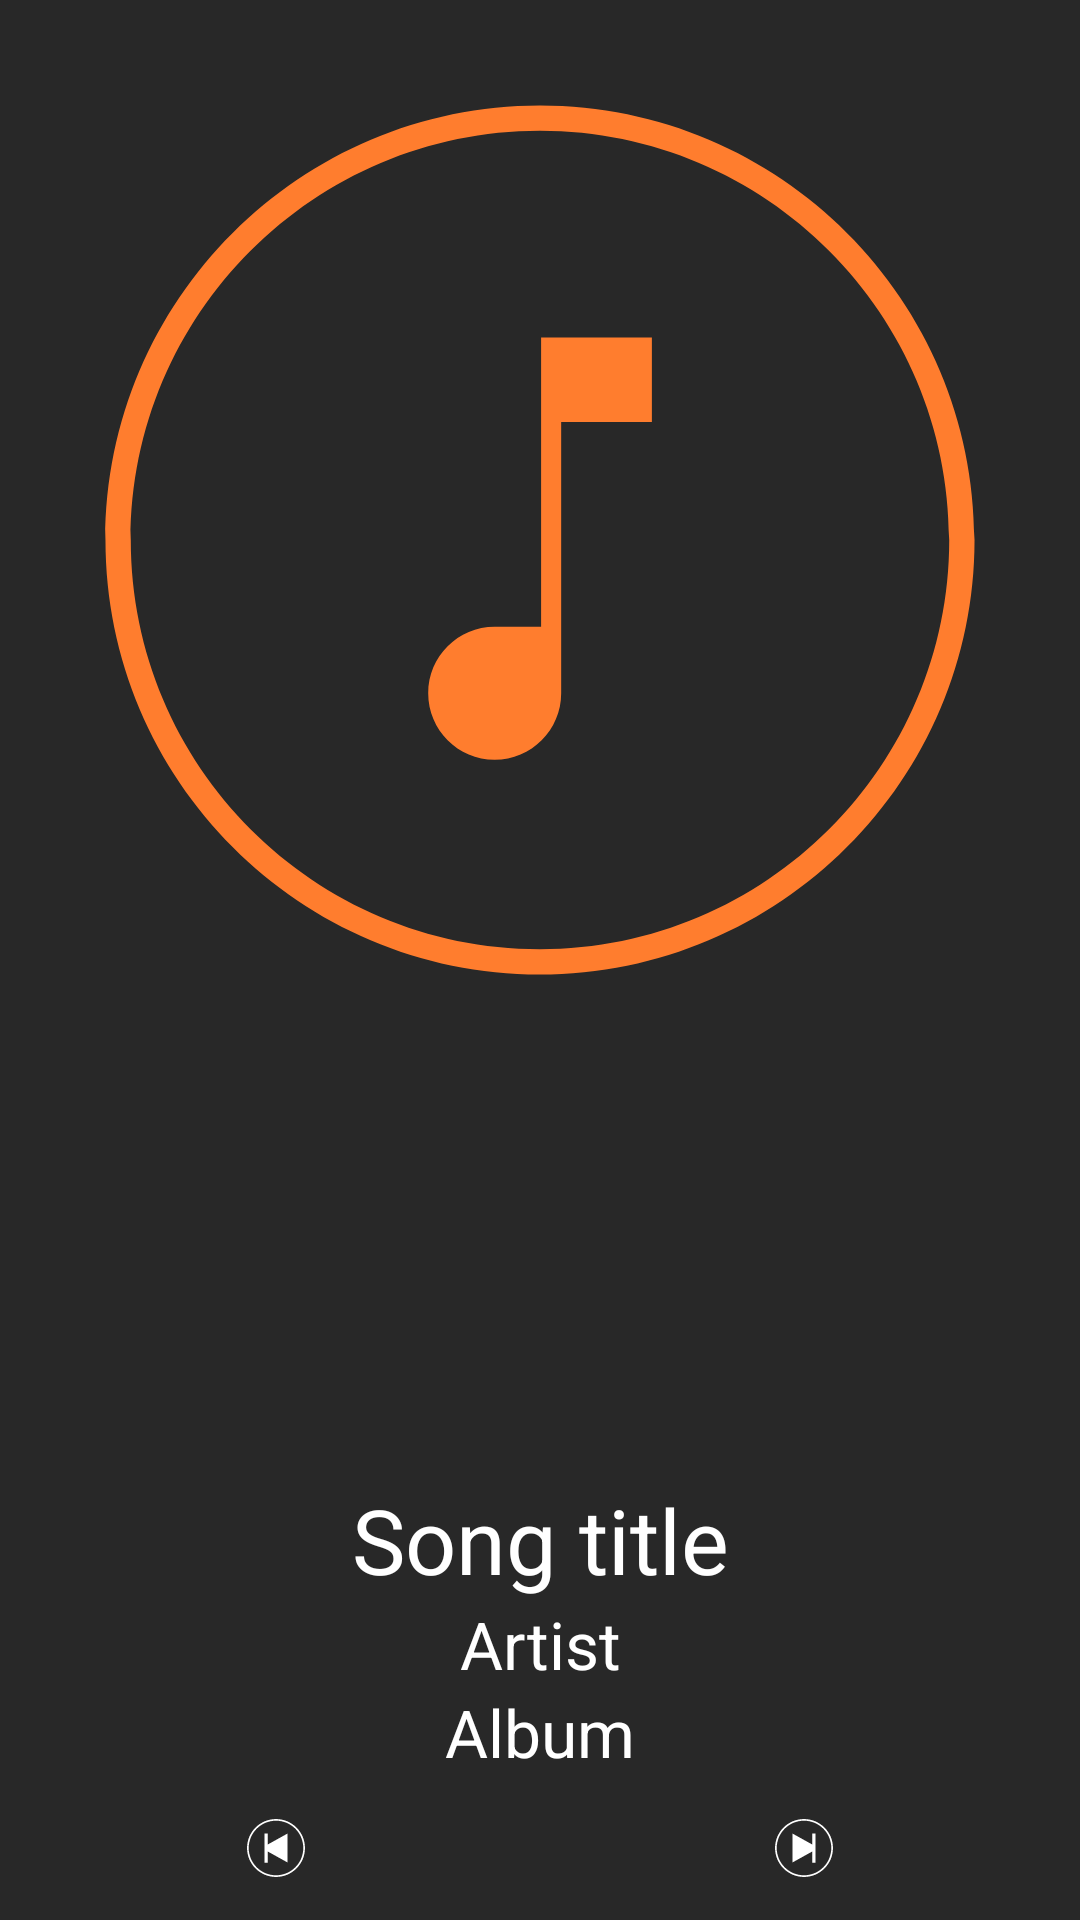

Icon bounding boxes for this 1080x1920 phone screenshot, format (x1, y1, x2, y2):
next: (775, 1819, 833, 1877)
prev: (247, 1819, 305, 1877)
